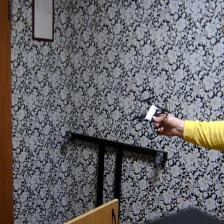drone: (130, 84, 173, 139)
